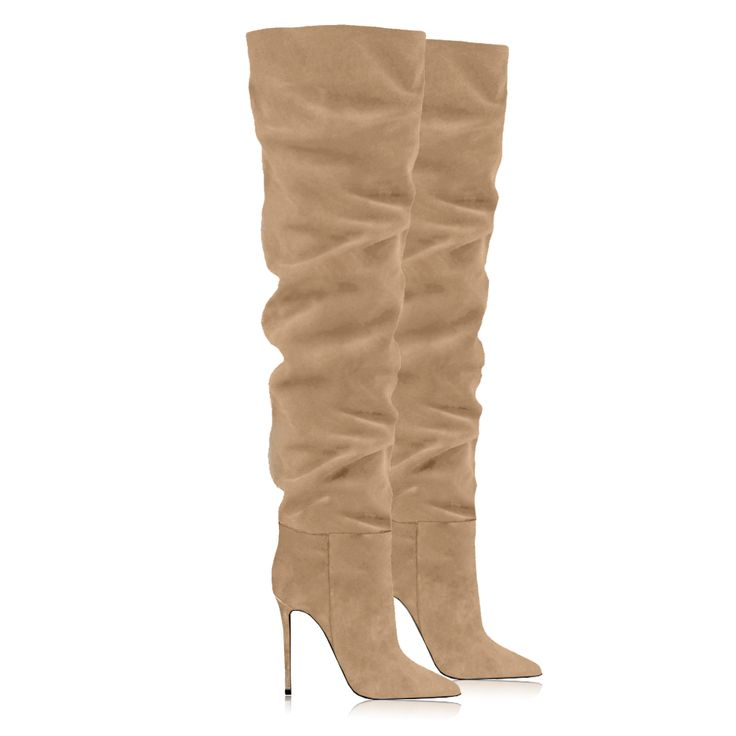gamuza: (246, 24, 542, 698)
